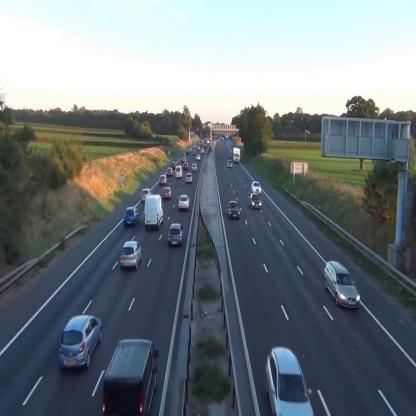car: (266, 347, 314, 416), (59, 314, 102, 370), (324, 261, 360, 309), (120, 241, 142, 269), (168, 223, 184, 247), (124, 207, 140, 226), (248, 191, 262, 210), (228, 201, 240, 220), (178, 194, 190, 209), (162, 186, 172, 198), (158, 174, 167, 184), (186, 172, 192, 182), (166, 167, 172, 174), (228, 159, 233, 167)
lorry: (103, 338, 159, 416), (144, 195, 164, 230), (233, 146, 241, 164), (175, 165, 183, 178)
